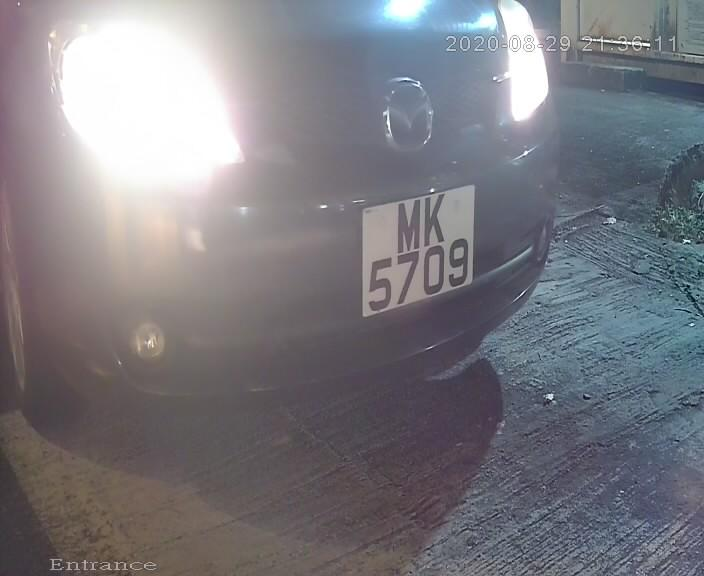License Plate: (353, 168, 478, 327)
